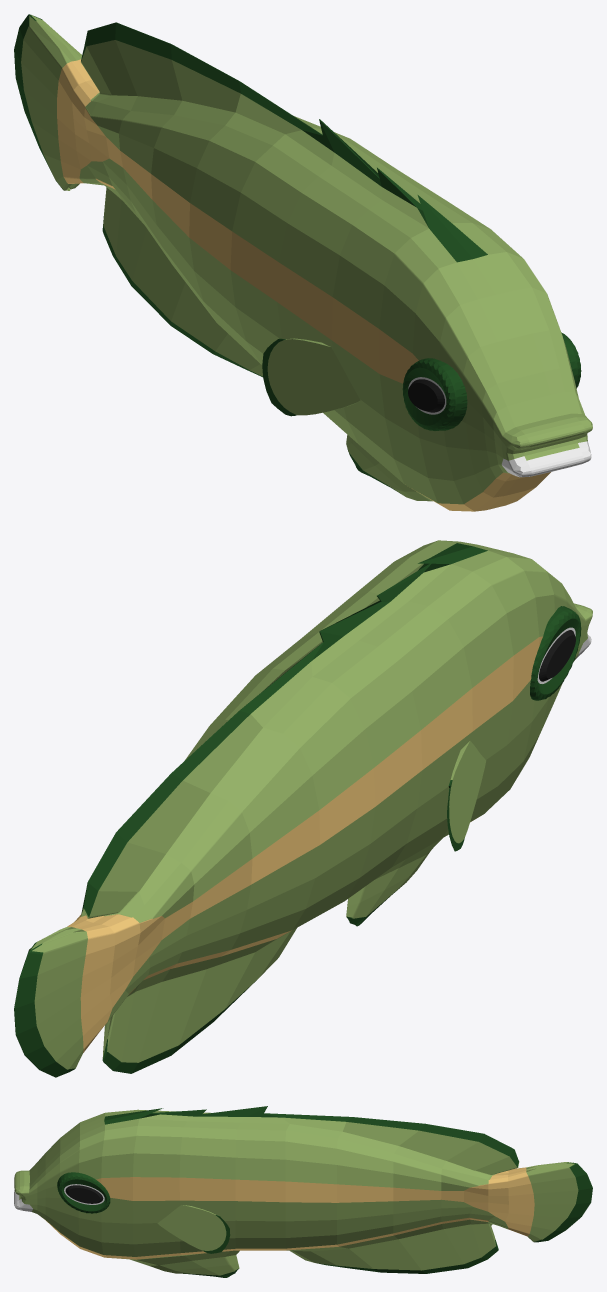
File: model_Green_Fish.fbx
The picture shows the model from 3 angles, top to bottom: view 1: azimuth 30°, elevation 25°; view 2: azimuth 150°, elevation 25°; view 3: azimuth 270°, elevation 25°; orthographic projection. The views are drawn at different scales.
Visible parts, largest first — view 1: greenfish; view 2: greenfish; view 3: greenfish.
Part boxes in pixels (left/top/right/bottom): greenfish: left=14, top=14, right=592, bottom=511; greenfish: left=14, top=540, right=592, bottom=1077; greenfish: left=14, top=1106, right=592, bottom=1277.
Size of the model in its own units: 30.35 by 50.3 by 154.
